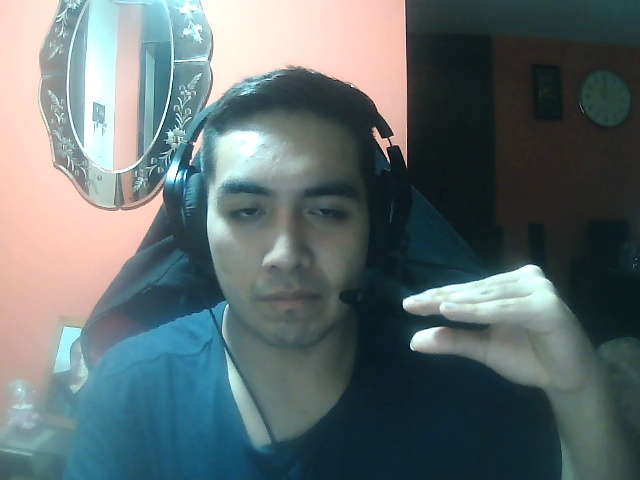no: (396, 260, 603, 397)
